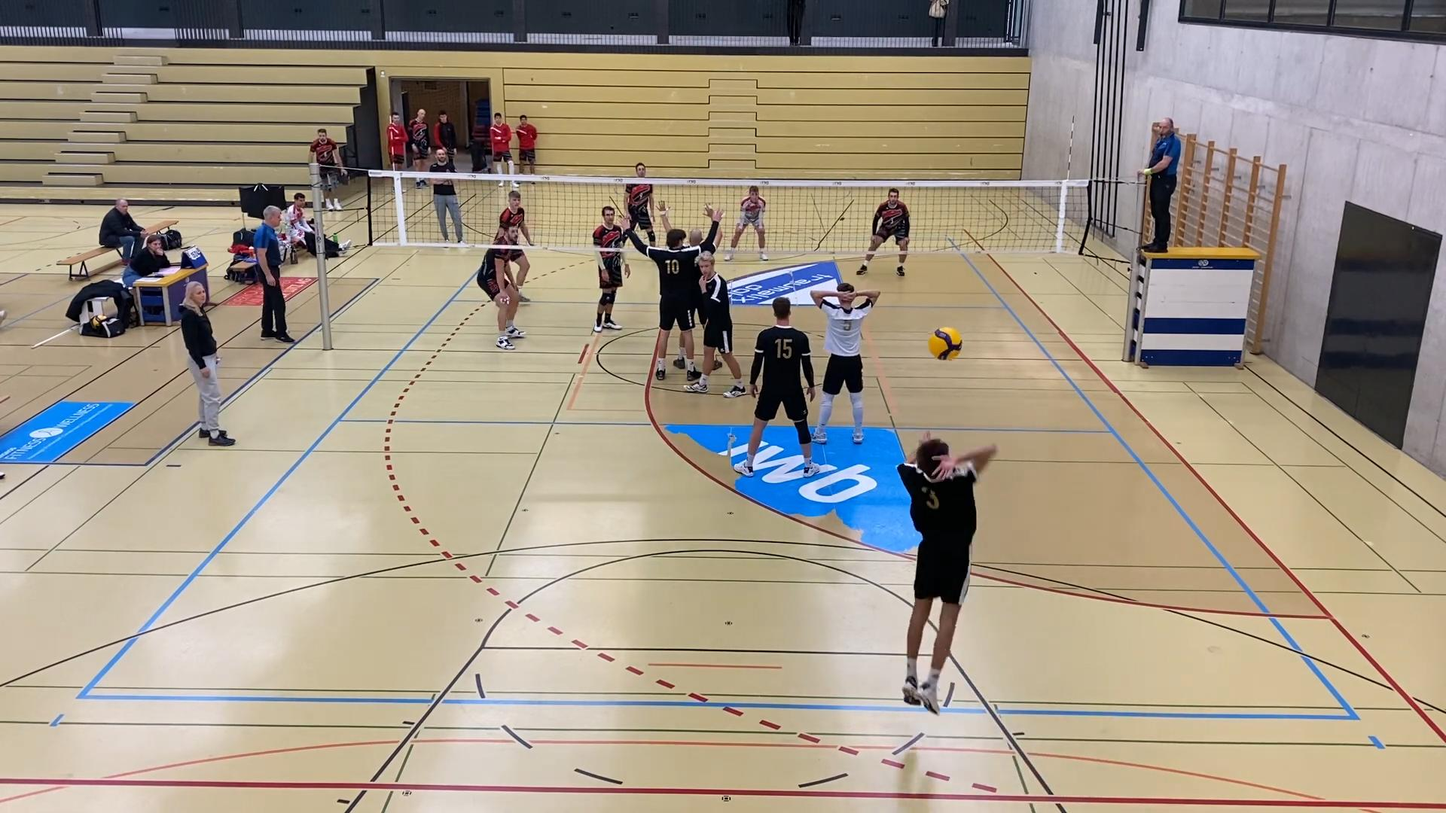battuta: (897, 431, 1000, 721)
